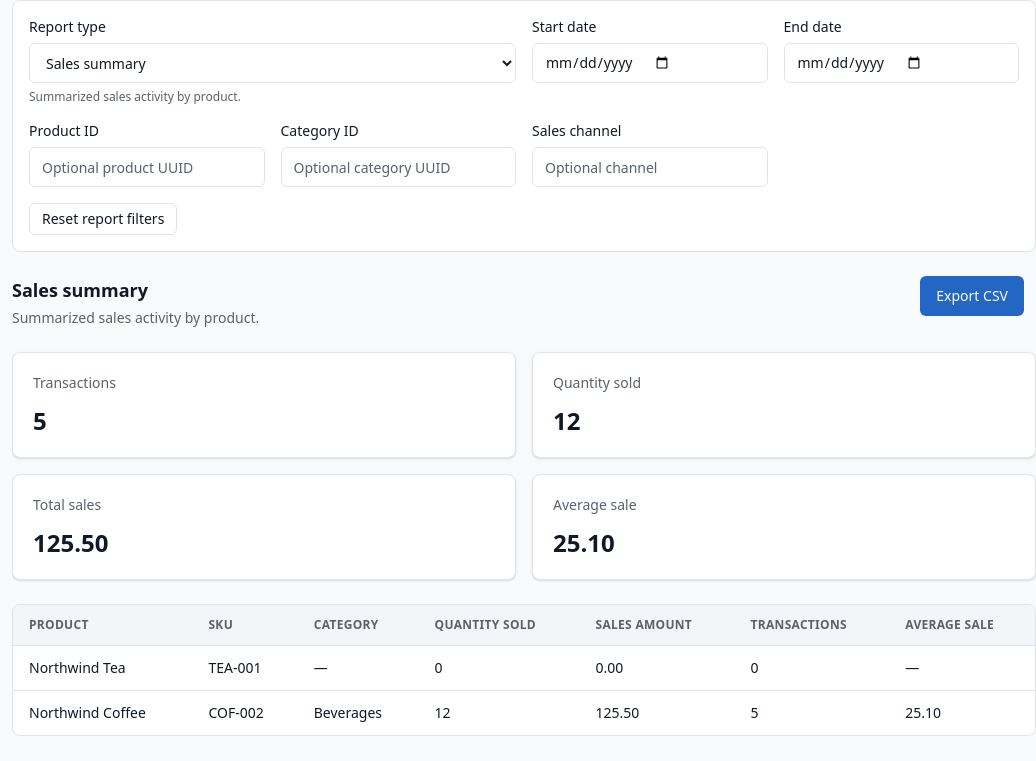
Test: ReportsView › selects backend report types and applies only the active report filters
The image size is (1036, 761).
Expected: the table named "Sales summary" is shown, [13,605,1035,735]
Select "Reorder summary" in the dropdown labelled "Report type": (272,63) [29,43,516,83]
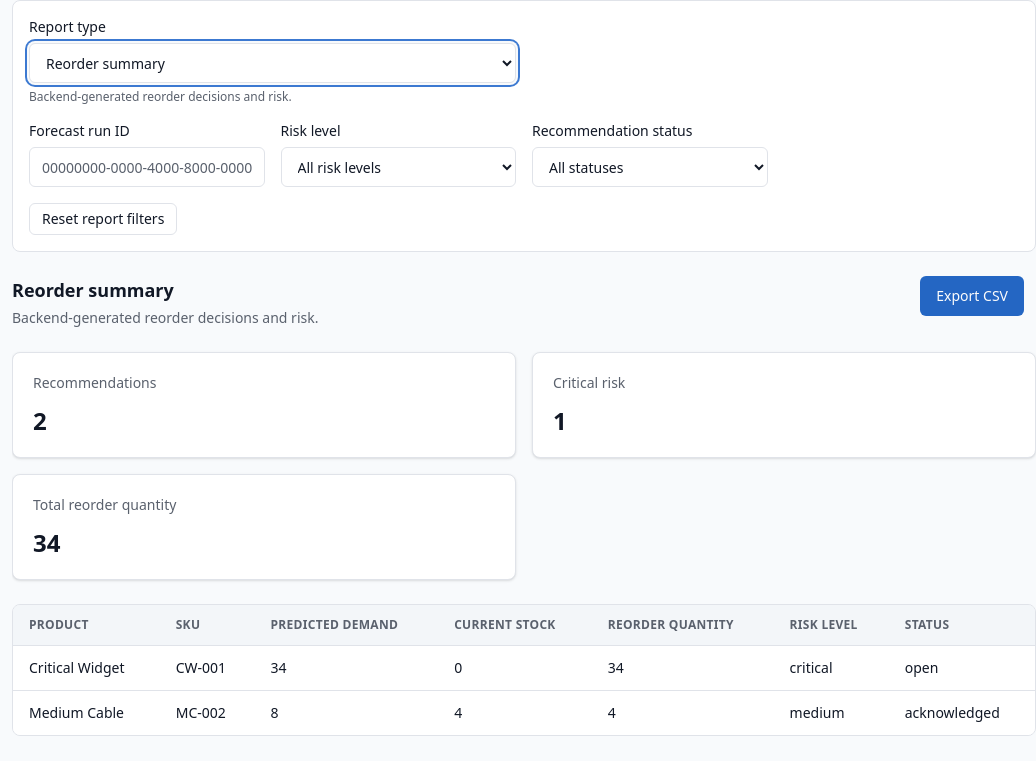
Result: the dropdown labelled "Risk level" is shown
Result: the dropdown labelled "Recommendation status" is shown at [532,147,768,187]
Result: the column heading "Reorder quantity" is shown at [592,605,774,646]
Select "Critical" in the dropdown labelled "Risk level": (398,167) [280,147,516,187]
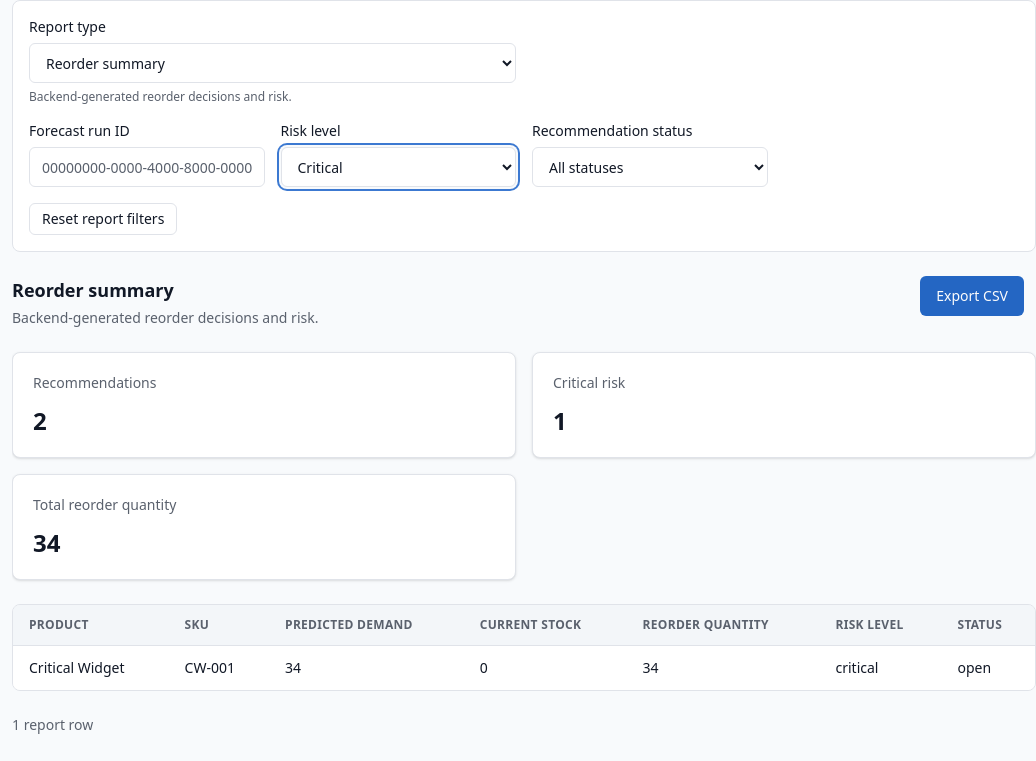
Result: the text "Critical Widget" is shown at [13,646,168,690]
Result: the text "Medium Cable" is gone
Select "Acknowledged" in the dropdown labelled "Recommendation status": (650,167) [532,147,768,187]
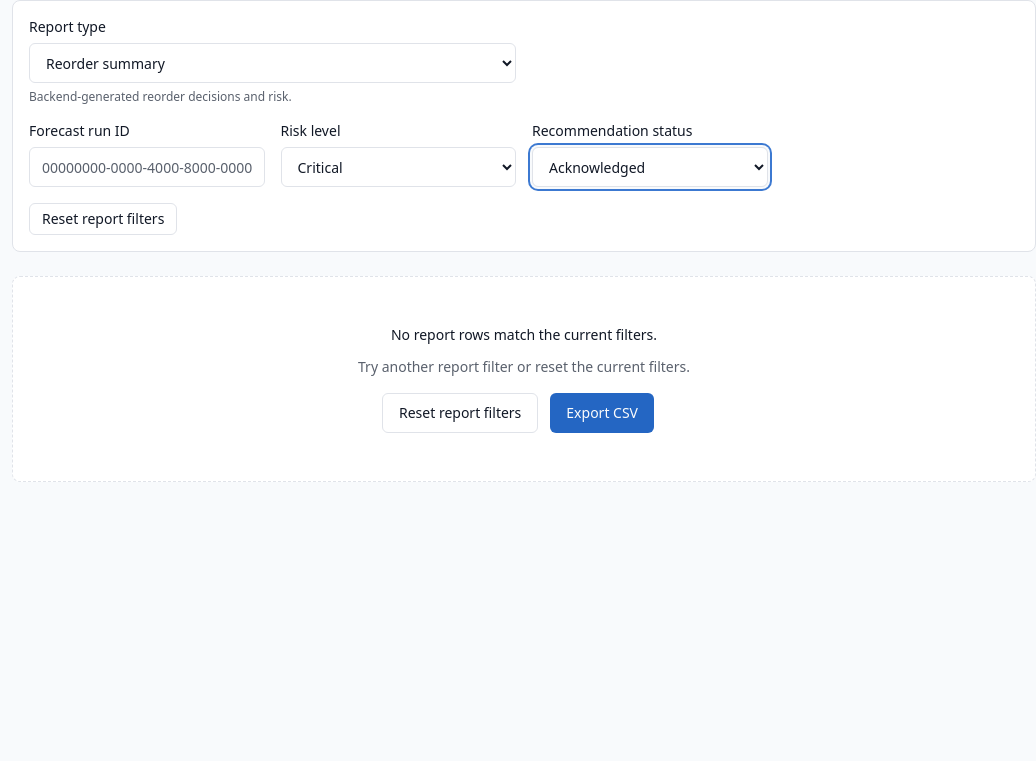
Result: the text "No report rows match the current filters." is shown at [391,325,657,345]
